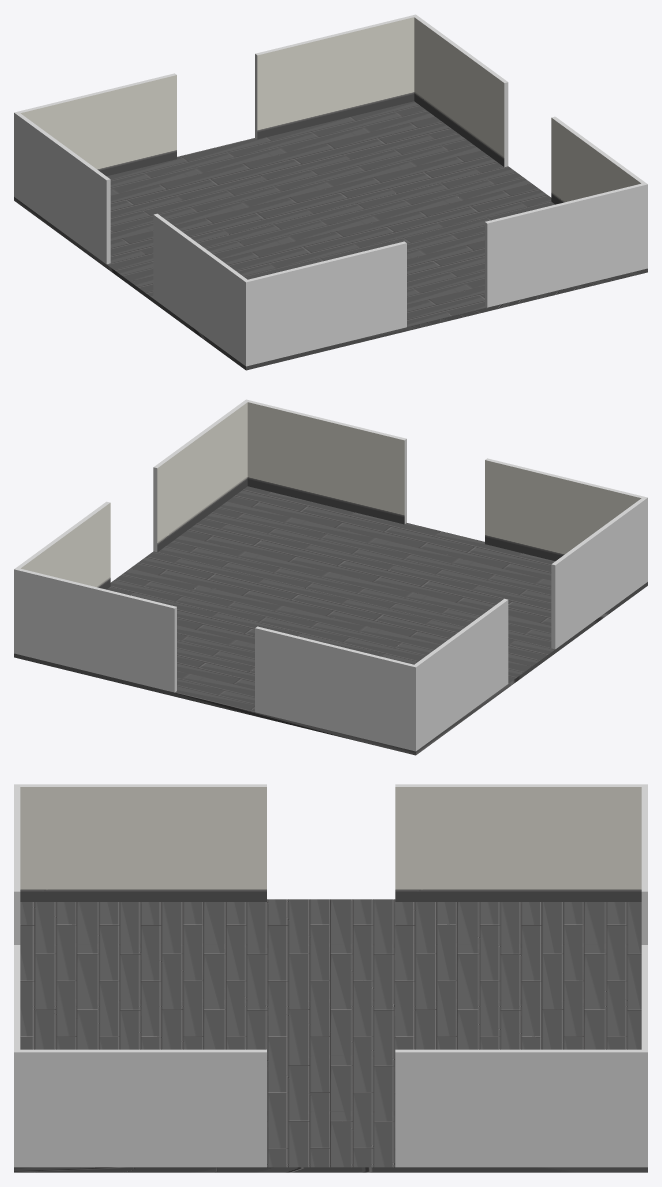
The model's file is Room_Office.glb.
3 views of the same model, one above another, from view 1: azimuth 30°, elevation 25°; view 2: azimuth 150°, elevation 25°; view 3: azimuth 270°, elevation 25° (orthographic). The views are drawn at different scales.
Parts seen in each view (by area): view 1: Room; view 2: Room; view 3: Room.
Boxes of the visible parts, <box> form: Room: <box>14,14,647,370</box>; Room: <box>14,399,647,755</box>; Room: <box>14,784,647,1172</box>.
Size of the model in its own units: 10 by 2.09 by 10.
3 materials, 2 textured.
